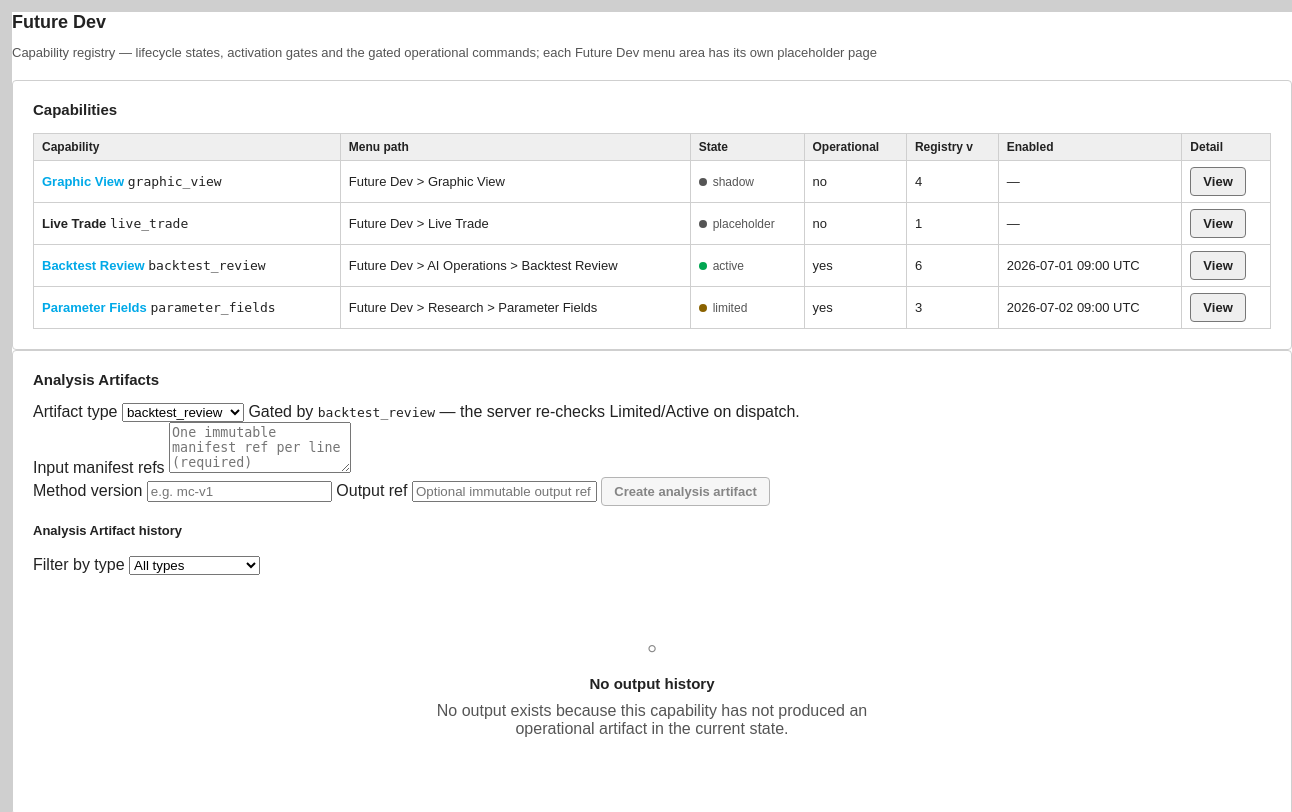
Test: Future Dev page › loads the detail projection with gate states and provenance on View
Expected: the text "Live Trade" is shown, [42,216,106,231]
Click the button "View" in the row of "graphic_view".
click(1218, 182)  # box [1190,167,1246,196]
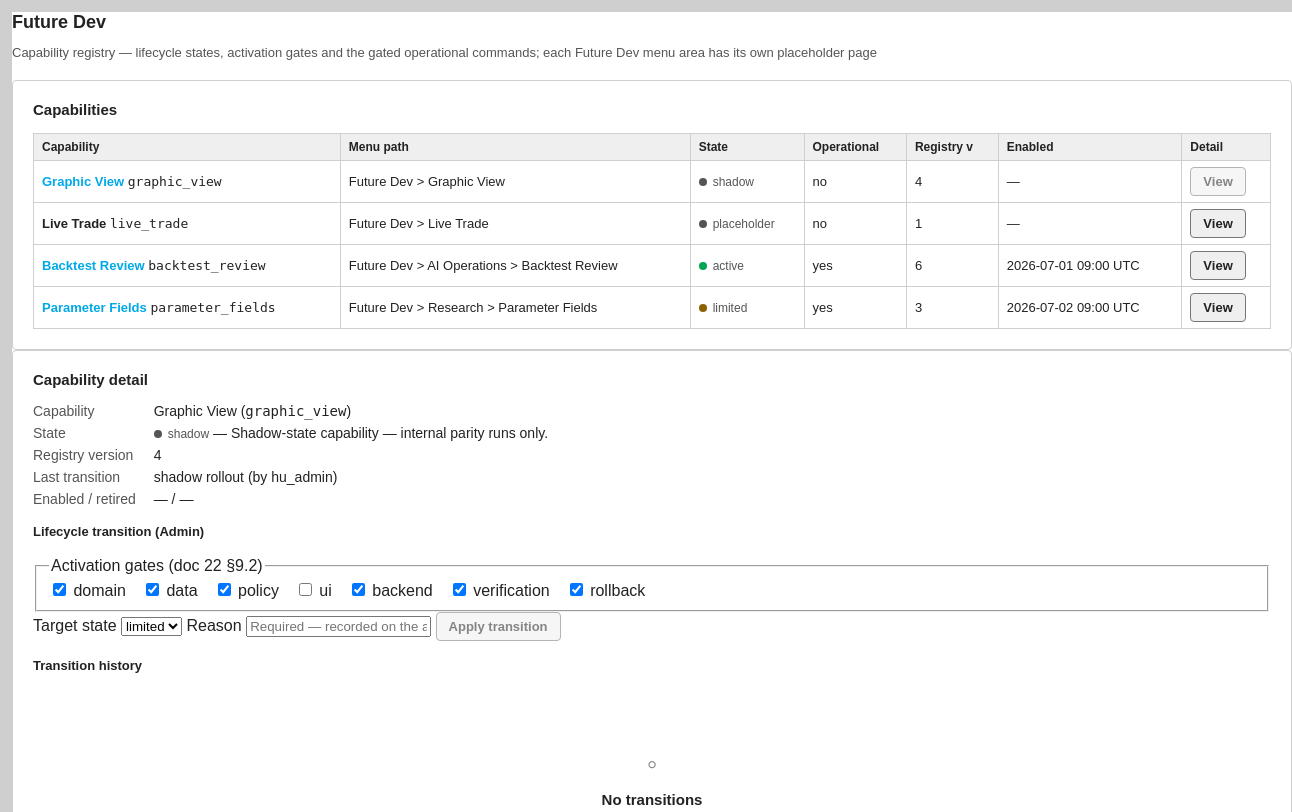
Now the text "shadow rollout (by hu_admin)" is shown, box [154,469,337,485]
Now the checkbox labelled "domain" is checked, box [53,583,66,596]
Now the checkbox labelled "ui" is not checked, box [299,583,312,596]
